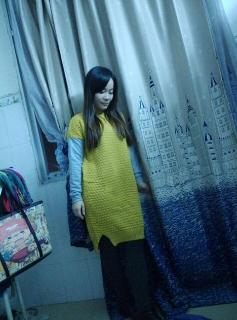long sleeve dress: (67, 108, 145, 255)
trousers: (81, 173, 153, 318)
